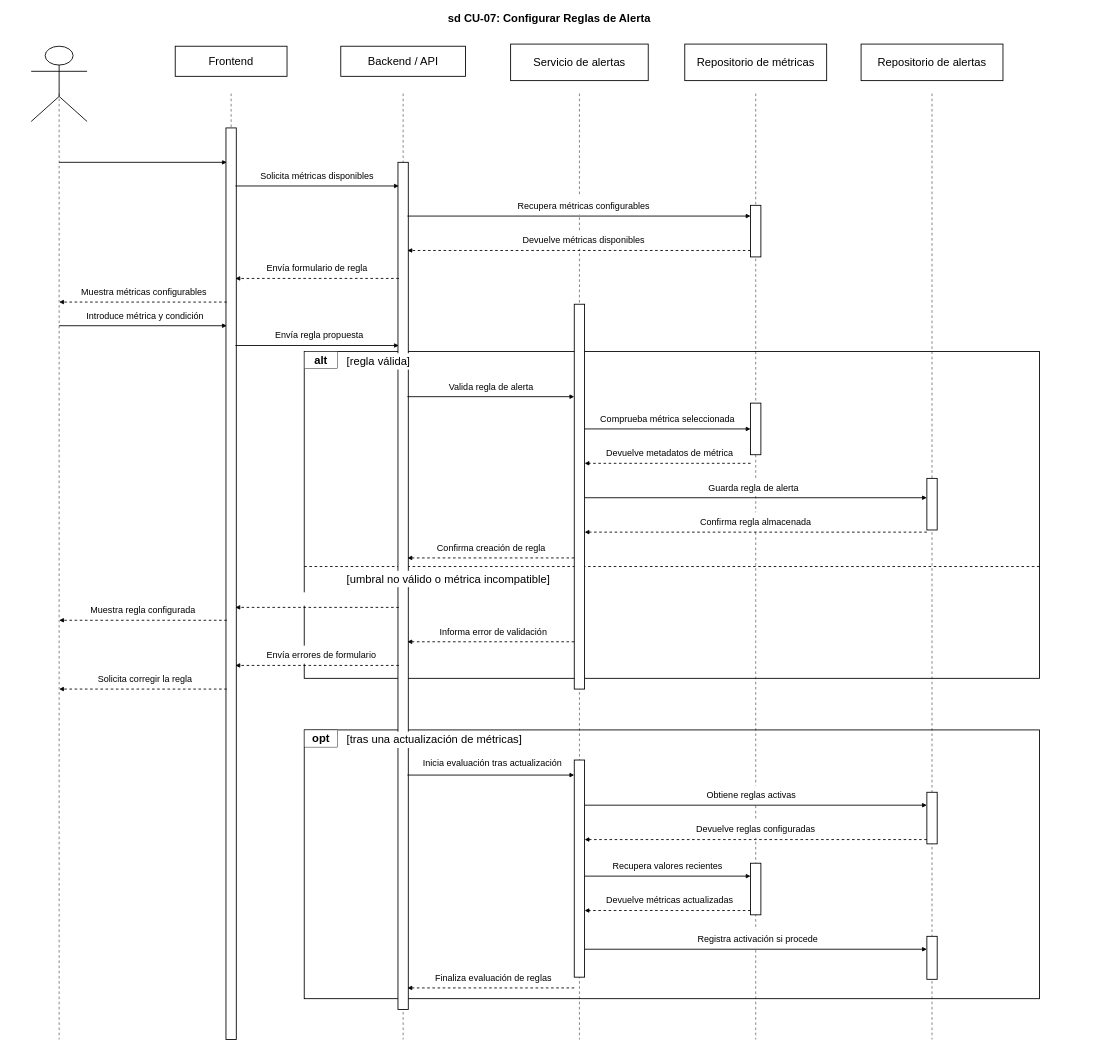
The diagram is 1098 pixels wide and 1047 high, and some of its shapes have lost their labels. Each missing label, with the box of its shape:
Accede a configuración de alertas: (68, 142, 222, 160)
Devuelve confirmación: (250, 592, 388, 605)
Usuario autenticado: (31, 46, 87, 122)
